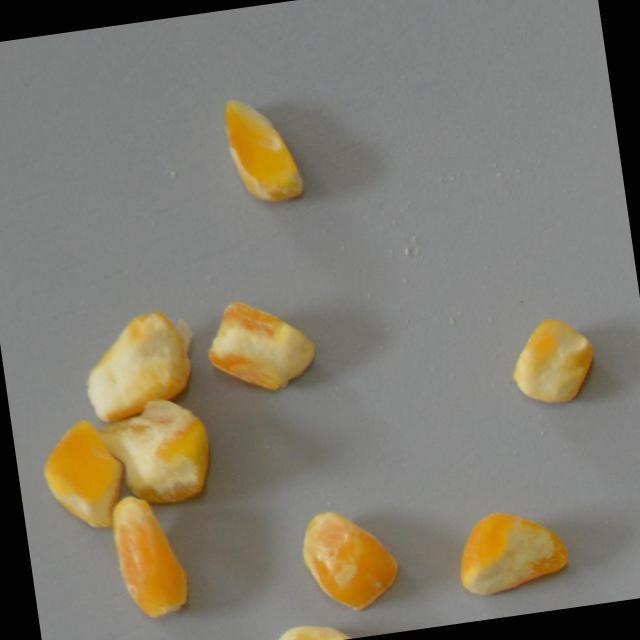estandar: (450, 499, 575, 603), (504, 310, 603, 412)
pelicula: (101, 393, 226, 513), (87, 296, 197, 430), (291, 502, 413, 611), (25, 428, 148, 524), (77, 515, 217, 598), (213, 286, 308, 406), (199, 112, 325, 187), (276, 611, 384, 640)
